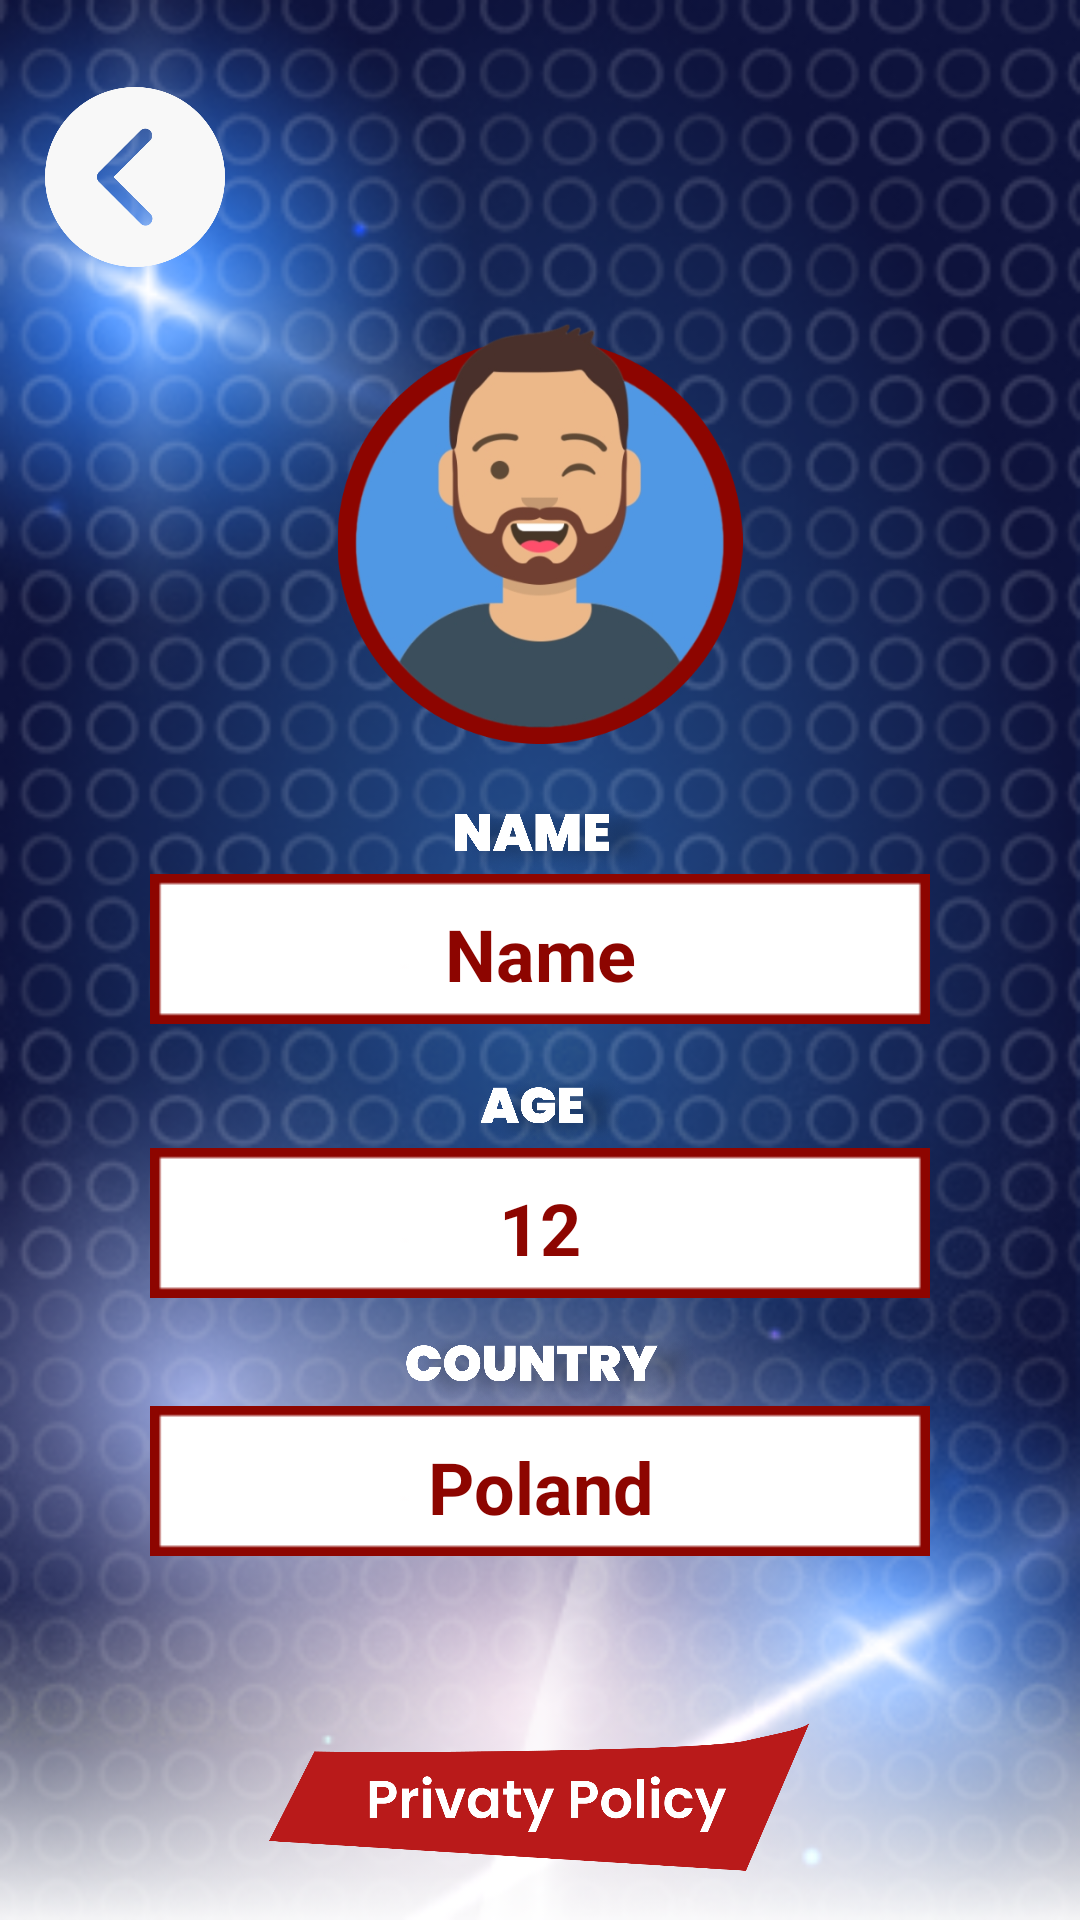

Icons on this 1080*1920 Android screen, each with the point to tap as (x=x, y=y):
back: (x=135, y=177)
